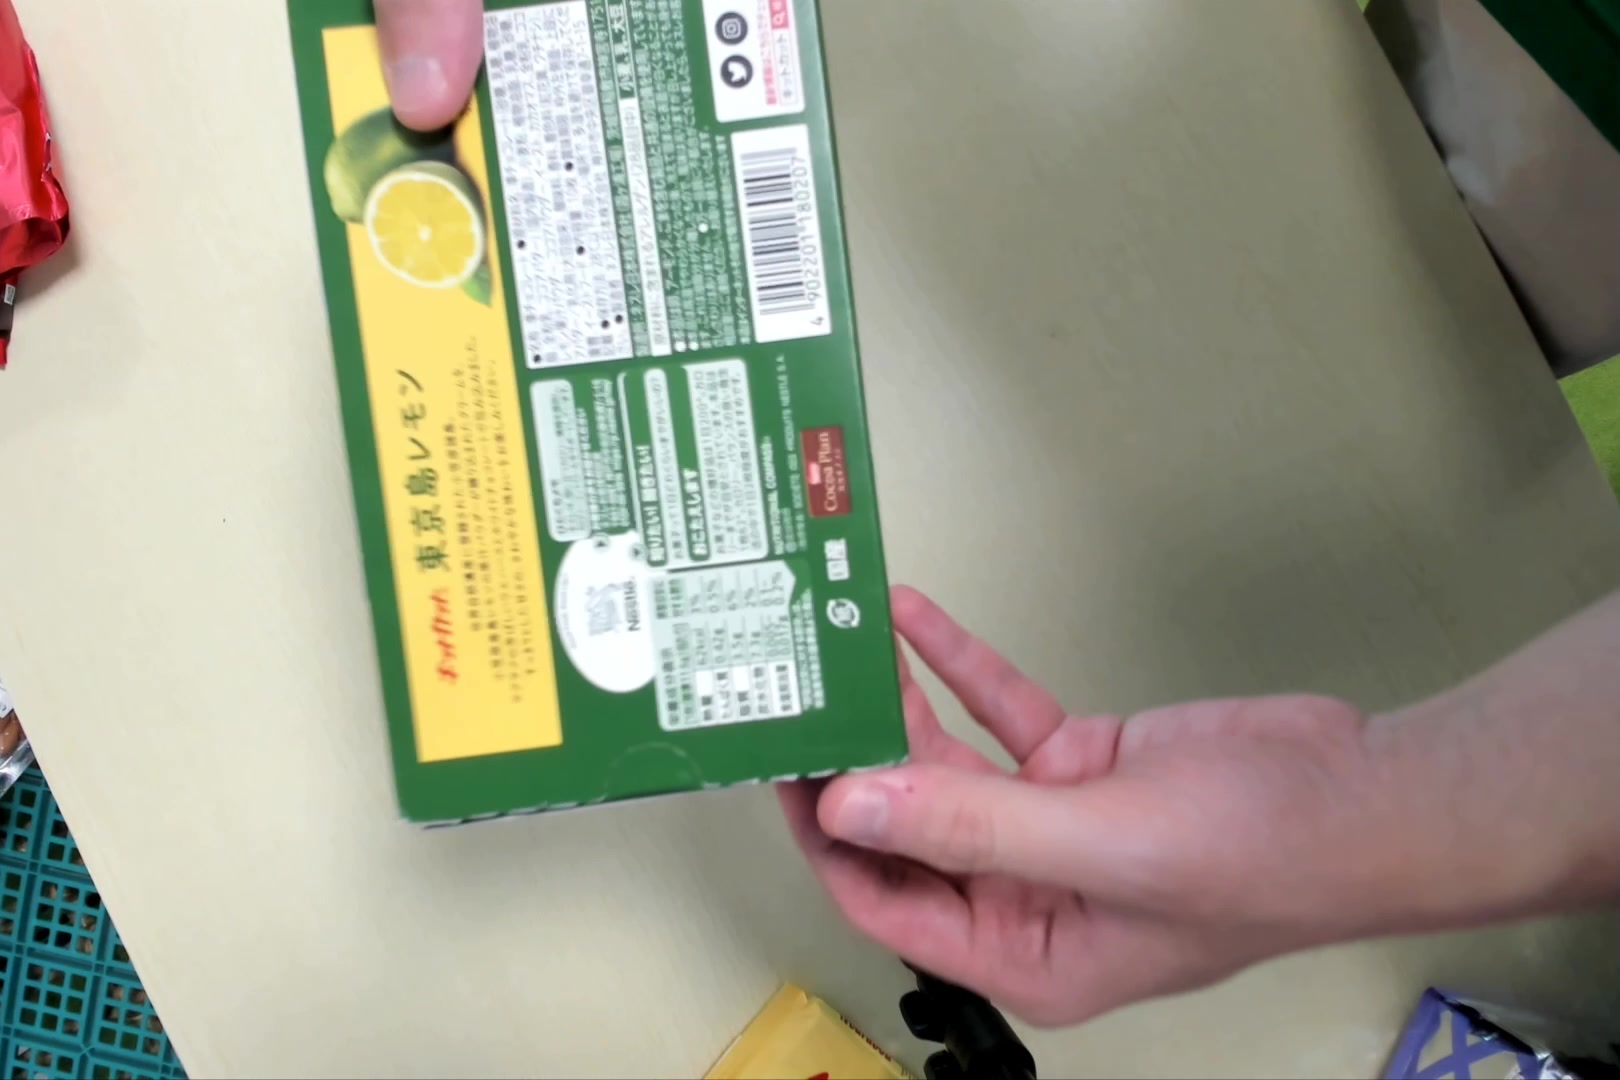SweetsChocolatesOthers_100-199g_NonHalal_NonHealthy: (281, 1, 908, 835)
